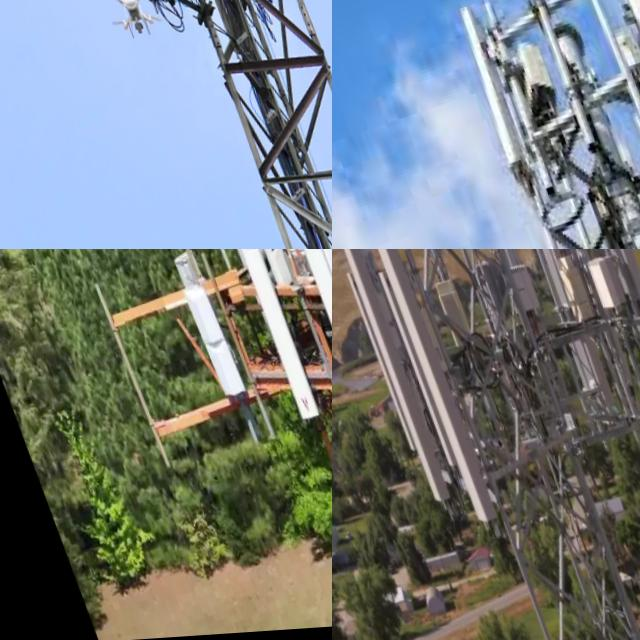GSM Antenna: (363, 249, 501, 548), (332, 249, 462, 523), (512, 249, 624, 436), (222, 249, 322, 439), (338, 264, 424, 476), (443, 0, 535, 184), (570, 249, 640, 457), (473, 249, 564, 388), (166, 272, 243, 411), (285, 249, 332, 444), (586, 0, 640, 132)
